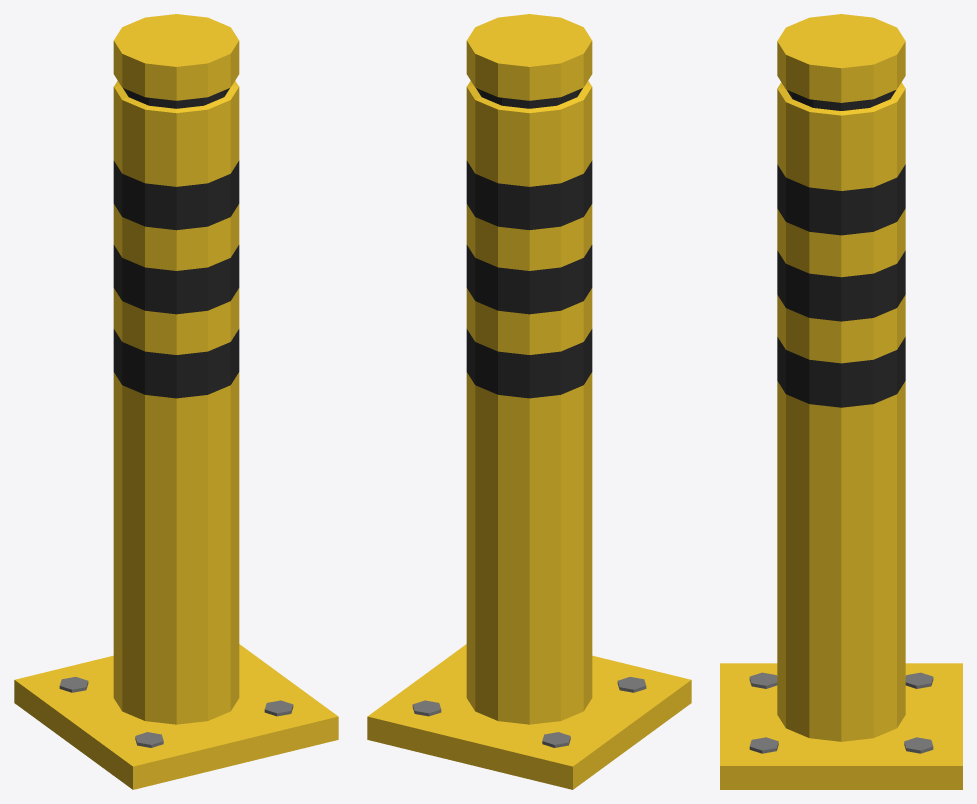
Rendered from SM_column_1.gltf.
3 views of the same model, side by side, from view 1: azimuth 30°, elevation 25°; view 2: azimuth 150°, elevation 25°; view 3: azimuth 270°, elevation 25° (orthographic). The views are drawn at different scales.
Visible parts, largest first — view 1: SM_column_1; view 2: SM_column_1; view 3: SM_column_1.
Boxes of the visible parts, box(x1,y1,x2,y2) form: SM_column_1: box(14, 14, 338, 789); SM_column_1: box(367, 14, 691, 789); SM_column_1: box(720, 14, 962, 789).
Size of the model in its own units: 0.2953 by 0.9356 by 0.2953.
1 material, 1 textured.
